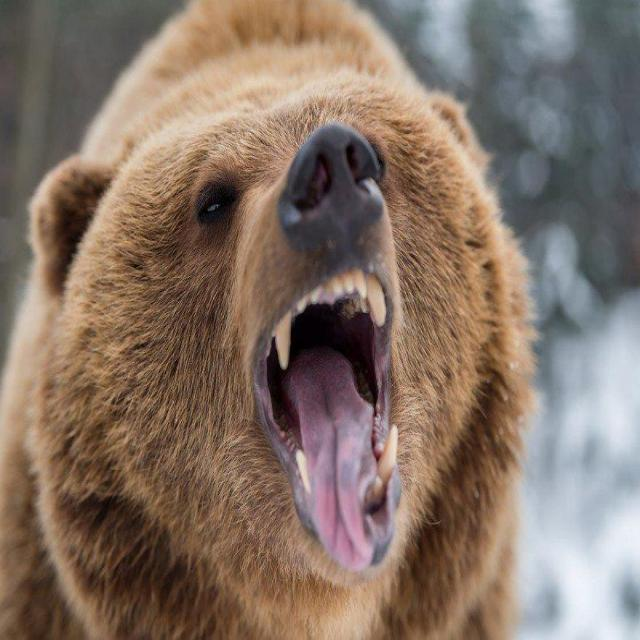Bear: (0, 0, 541, 640)
